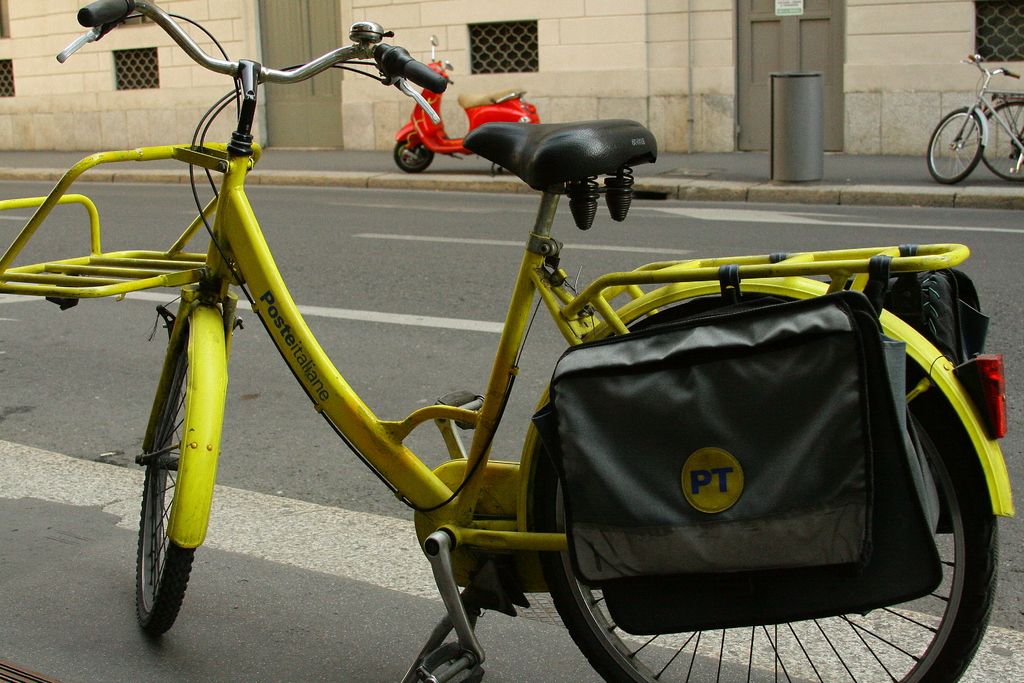Bike_away: (73, 16, 920, 647)
